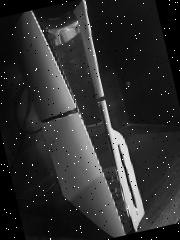electronic: (10, 0, 149, 240)
